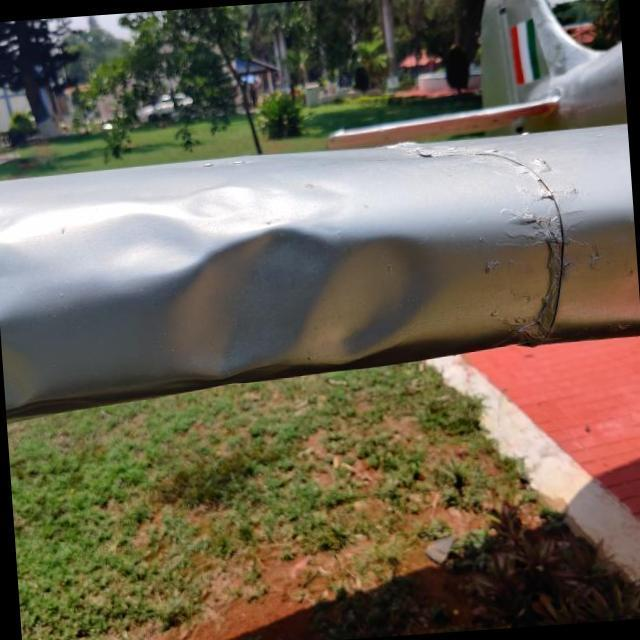Dent: (57, 142, 472, 414), (0, 298, 79, 425)
